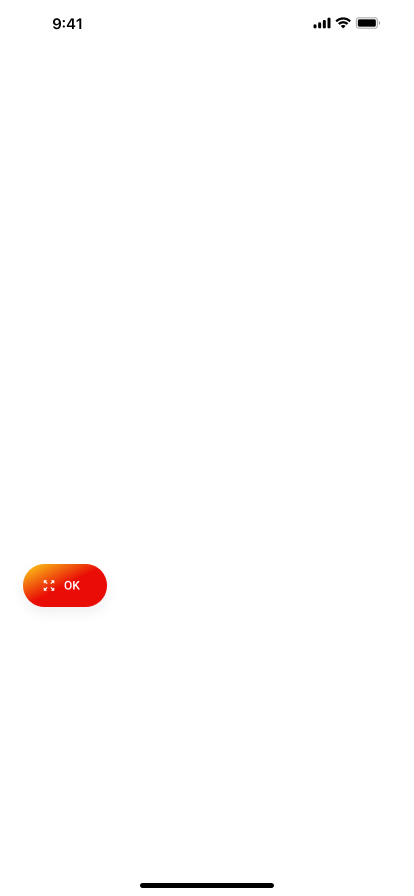Buttons: (8, 555, 122, 628)
Home Indicator: (0, 862, 414, 896)
Status Bar: (0, 0, 414, 44)
